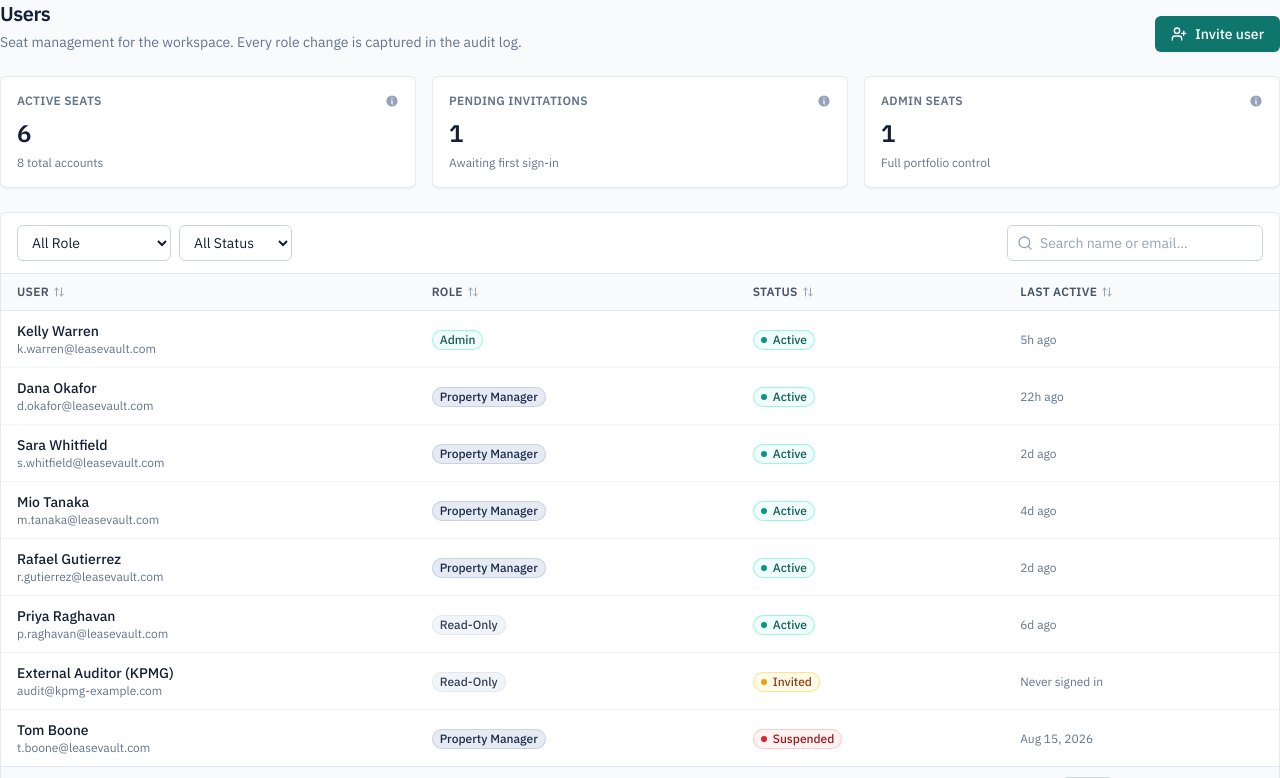
Test: UsersView › blocks empty invitation submissions with inline errors
The image size is (1280, 778).
Click the button "Invite user": click(1218, 34) [1155,16,1279,52]
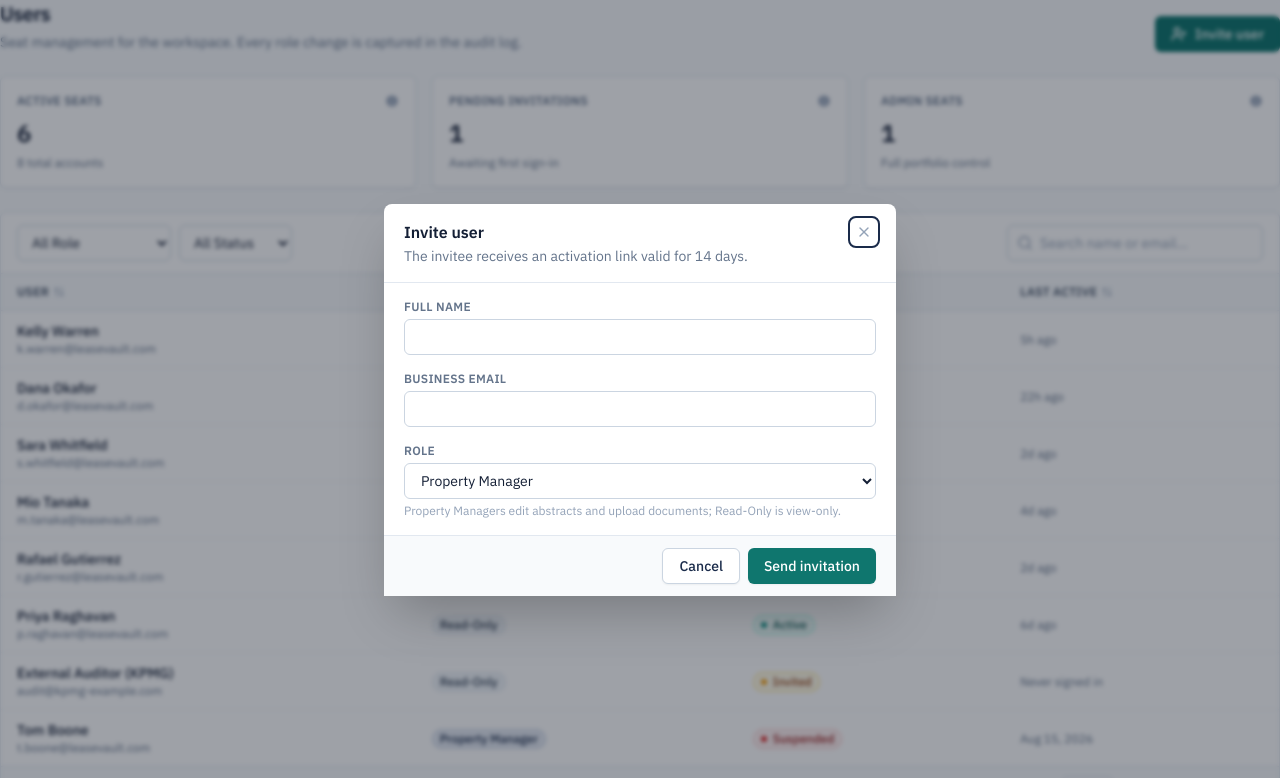
Submit the form with id "invite-user-form", box [404,299,876,519]
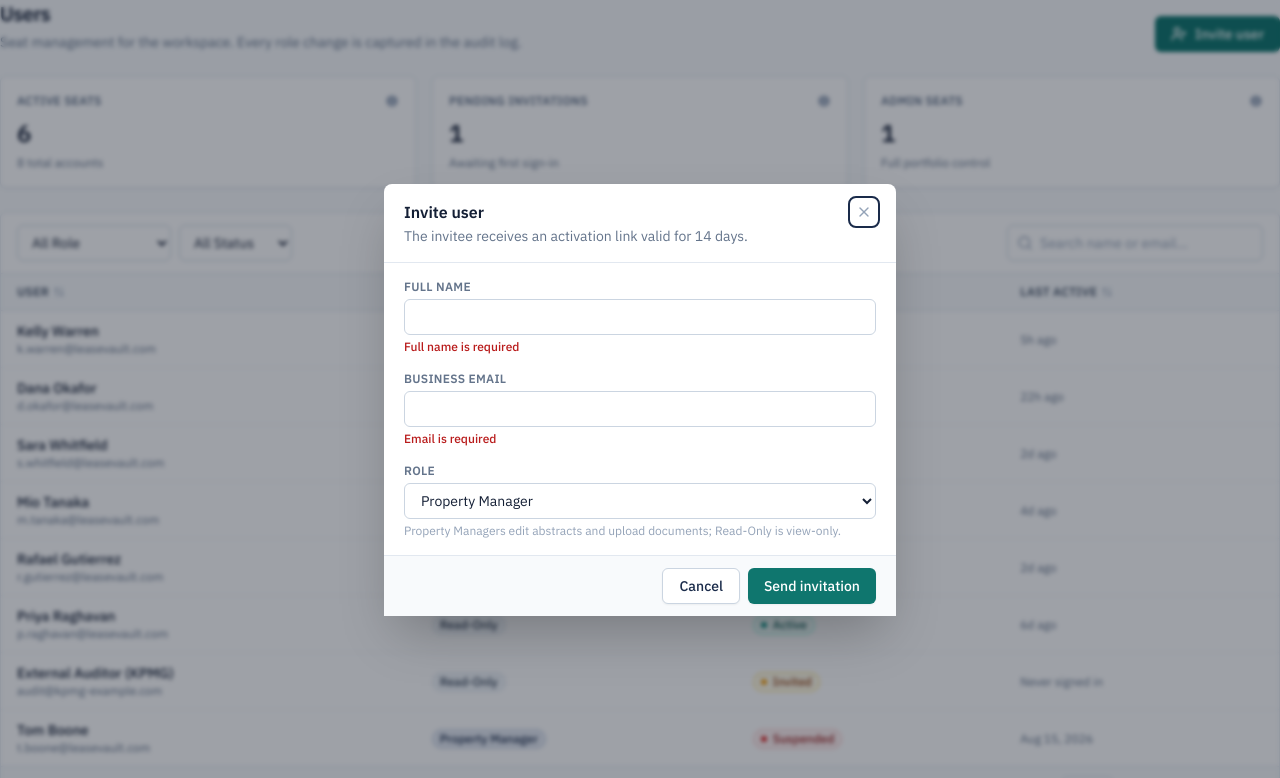
Check: the text "Full name is required" is shown, box [404,339,519,354]
Check: the text "Email is required" is shown, box [404,431,496,446]
